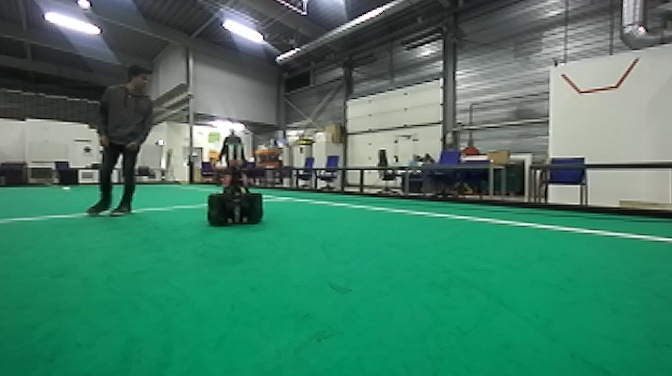human: (82, 60, 157, 220)
robot: (203, 136, 268, 232)
